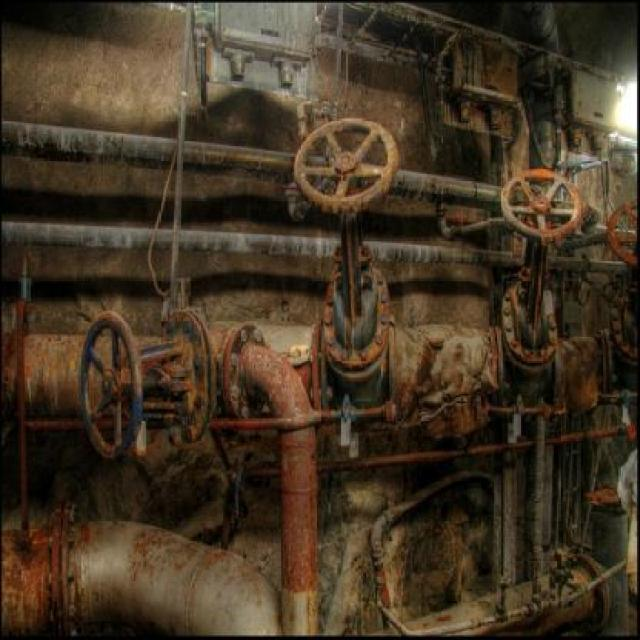corrosion: (12, 114, 640, 640)
